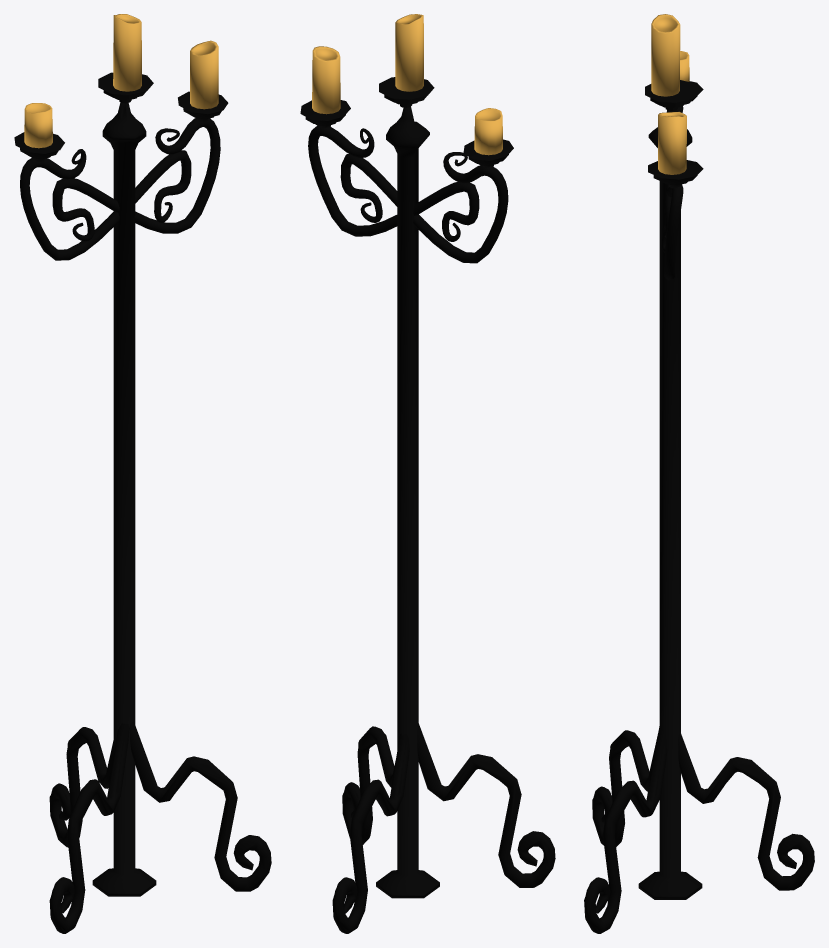
The model's file is light_standing.fbx.
3 views of the same model, side by side, from view 1: azimuth 30°, elevation 25°; view 2: azimuth 150°, elevation 25°; view 3: azimuth 270°, elevation 25° (orthographic).
Visible parts, largest first — view 1: Cylinder.005, Cylinder.002, Cylinder.003, Cylinder.006; view 2: Cylinder.005, Cylinder.002, Cylinder.003, Cylinder.006; view 3: Cylinder.005, Cylinder.002, Cylinder.003.
Boxes of the visible parts, x1,y1,x2,y2 form: Cylinder.005: (14, 72, 271, 933); Cylinder.002: (113, 14, 141, 91); Cylinder.003: (190, 40, 218, 109); Cylinder.006: (24, 103, 52, 148); Cylinder.005: (300, 77, 555, 933); Cylinder.002: (395, 14, 423, 91); Cylinder.003: (312, 46, 340, 114); Cylinder.006: (474, 108, 502, 155); Cylinder.005: (584, 80, 814, 933); Cylinder.002: (651, 14, 680, 96); Cylinder.003: (658, 111, 686, 174).
Size of the model in its own units: 310 by 1198 by 288.
